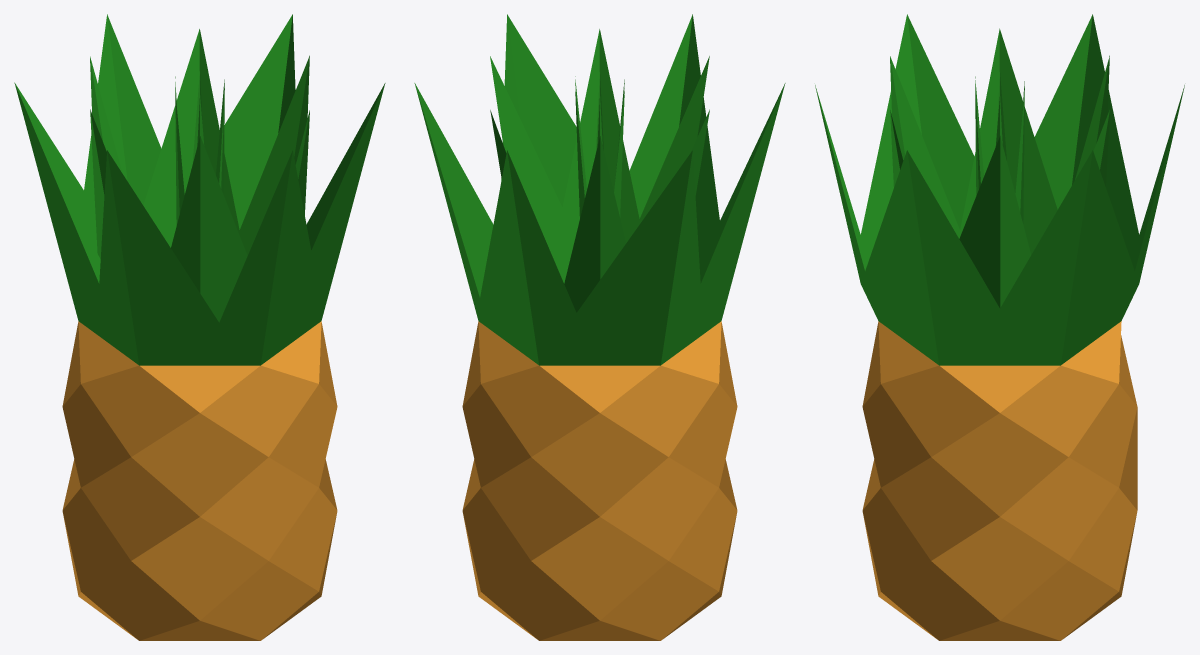
The model's file is pineapple.fbx.
3 renders of one model, left to right at view 1: azimuth 30°, elevation 25°; view 2: azimuth 150°, elevation 25°; view 3: azimuth 270°, elevation 25°, orthographic.
Parts seen in each view (by area): view 1: pineapple; view 2: pineapple; view 3: pineapple.
Boxes of the visible parts, x1,y1,x2,y2 form: pineapple: (14,14,385,640); pineapple: (414,14,785,640); pineapple: (815,14,1184,640).
Size of the model in its own units: 11.88 by 20.97 by 13.72.
